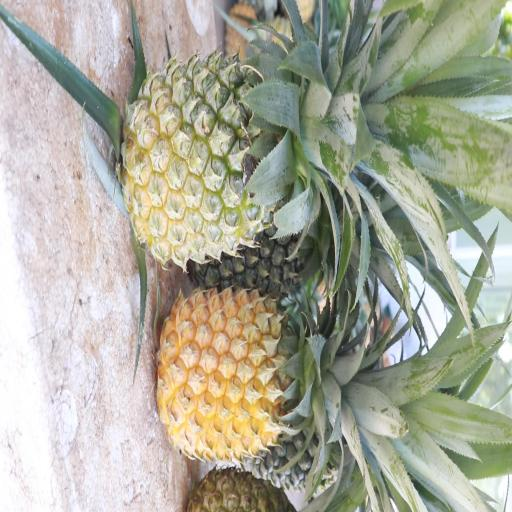------------------------------: (129, 61, 324, 265)
Pineapple - v8 v1: (160, 286, 334, 467)
